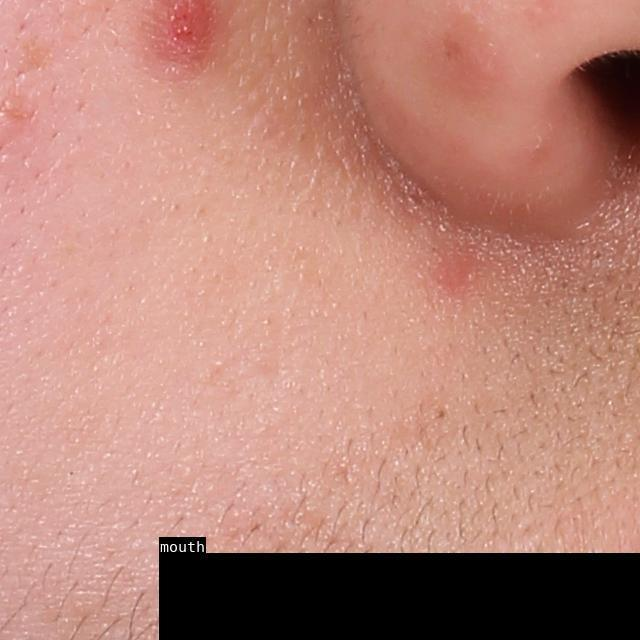comedo: (430, 401, 454, 425)
